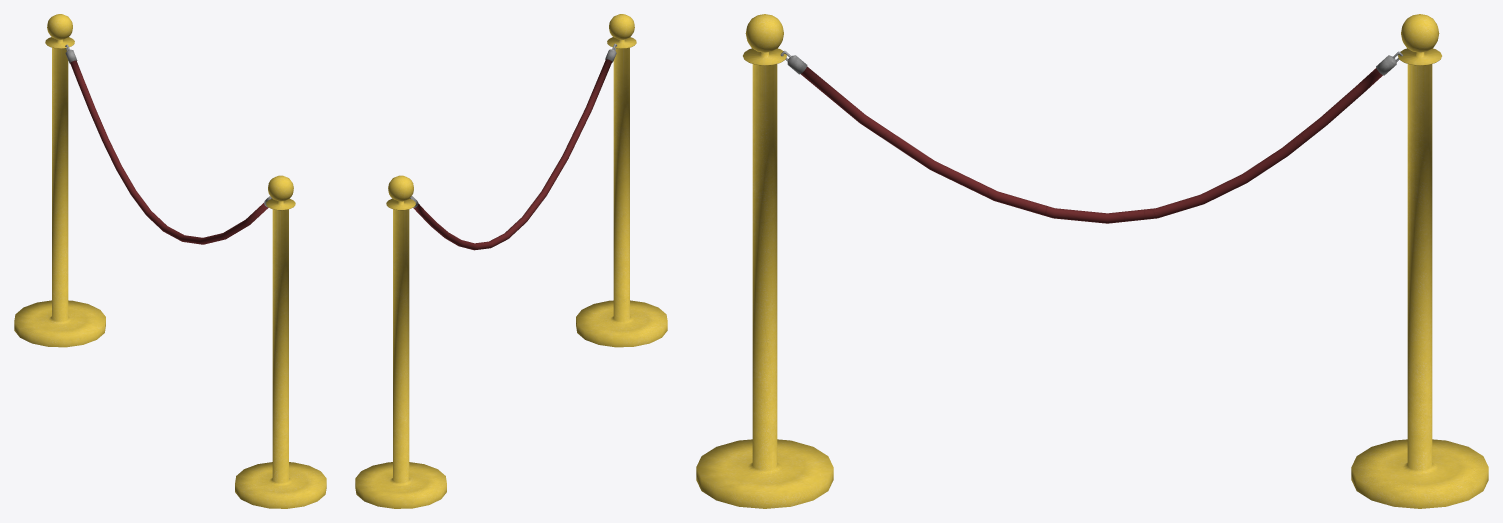
File: Museum_2Stanchions.fbx
The picture shows the model from 3 angles, left to right: view 1: azimuth 30°, elevation 25°; view 2: azimuth 150°, elevation 25°; view 3: azimuth 270°, elevation 25°; orthographic projection. The views are drawn at different scales.
Visible parts, largest first — view 1: Pole; view 2: Pole; view 3: Pole.
Part boxes in pixels (box(x1,y1,x2,y2)): Pole: box(14, 14, 326, 508); Pole: box(355, 14, 667, 508); Pole: box(696, 14, 1488, 508).
Bounding box in the file's own units: 26.45 × 98.57 × 153.
Materials: 1 (1 with a texture image).
